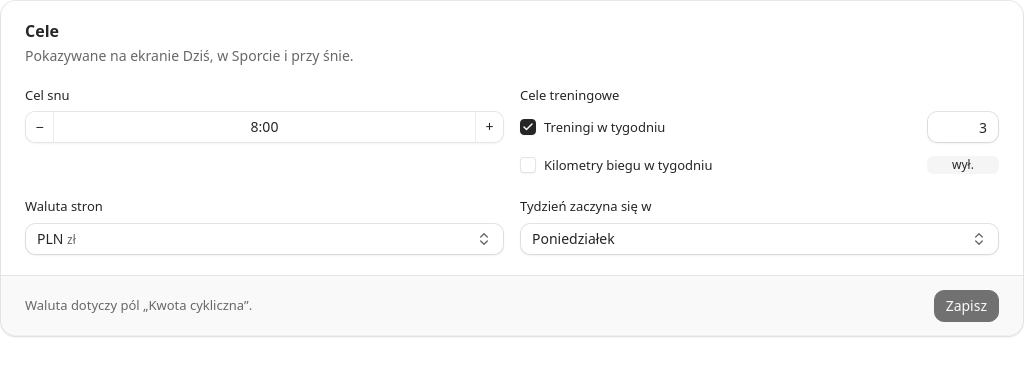
Test: GoalsCard › treningi „15” i „2,5” → błąd i Zapisz nieaktywne
Step 1. Replace the text in the field named "Treningi w tygodniu" with "15" → x=963, y=127, box [927, 111, 999, 143]
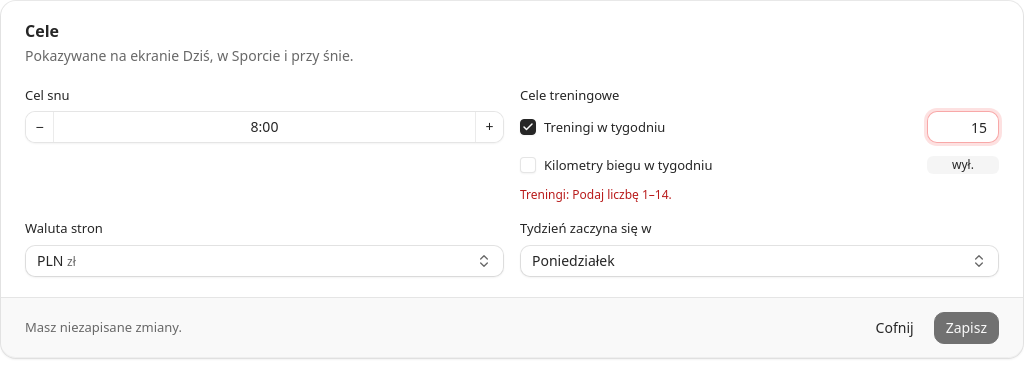
expect the button "Zapisz" is disabled: met, box [934, 312, 999, 344]
expect the text "Treningi: Podaj liczbę 1–14." is shown: met, box [520, 186, 672, 203]
Step 2. Replace the text in the field named "Treningi w tygodniu" with "2,5" → x=963, y=127, box [927, 111, 999, 143]
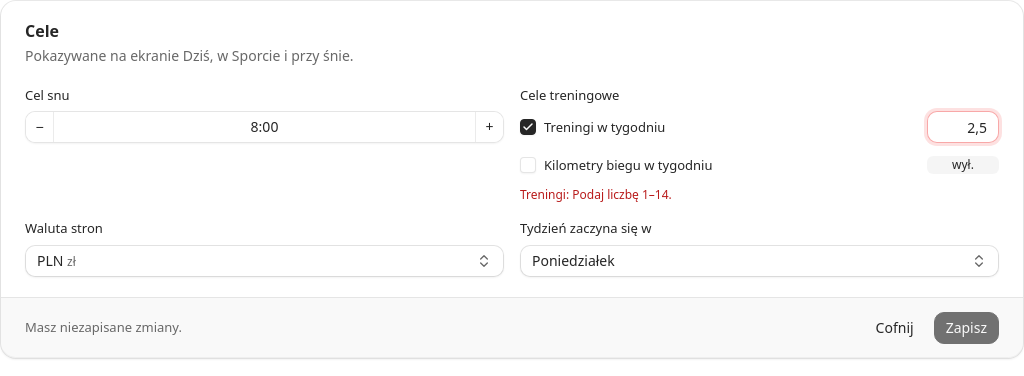
expect the text "Treningi: Podaj liczbę 1–14." is shown: met, box [520, 186, 672, 203]
Step 3. Replace the text in the field named "Treningi w tygodniu" with "14" → x=963, y=127, box [927, 111, 999, 143]
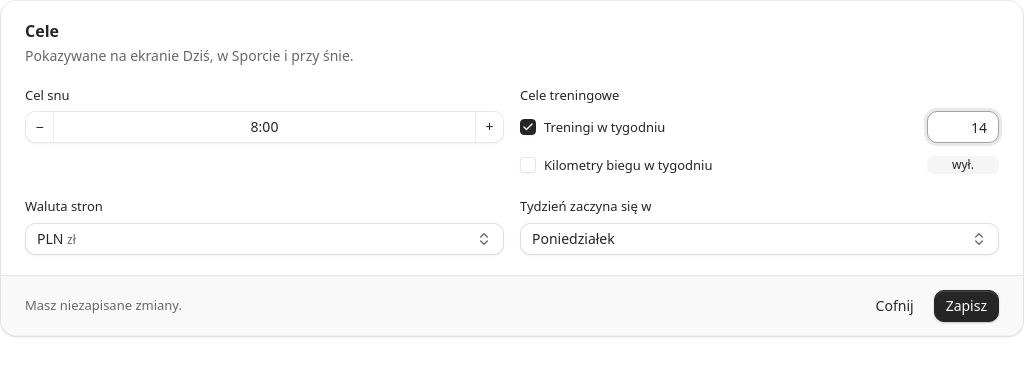
expect the text "Treningi: Podaj liczbę 1–14." is gone: met
expect the button "Zapisz" is enabled: met, box [934, 290, 999, 322]
